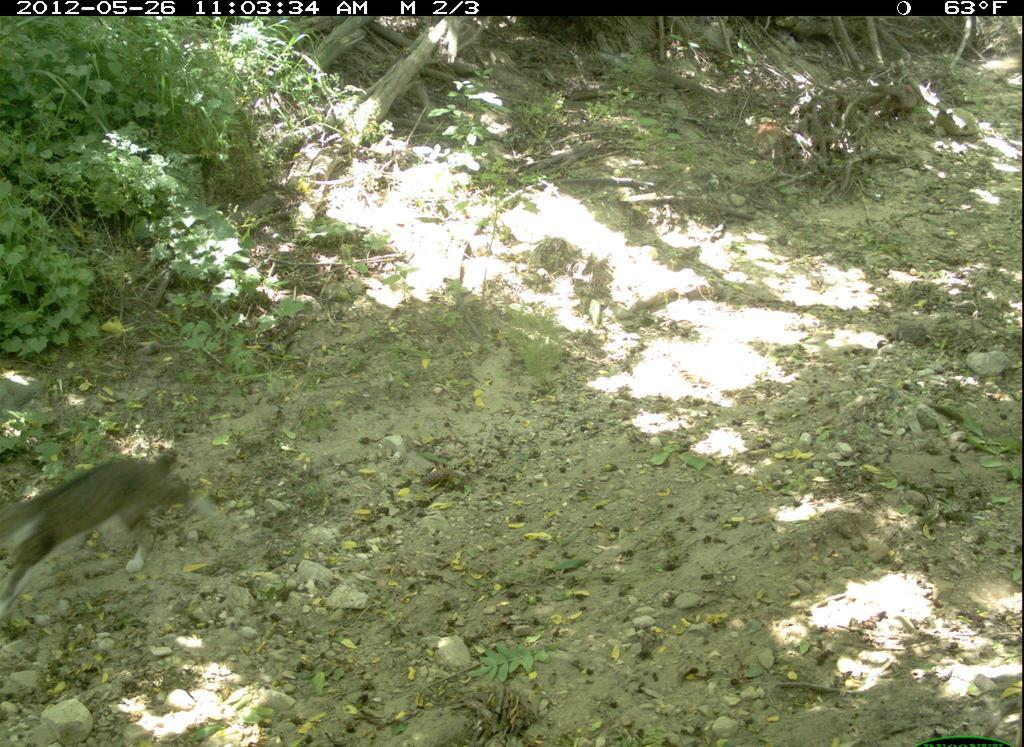cat: (8, 451, 205, 611)
